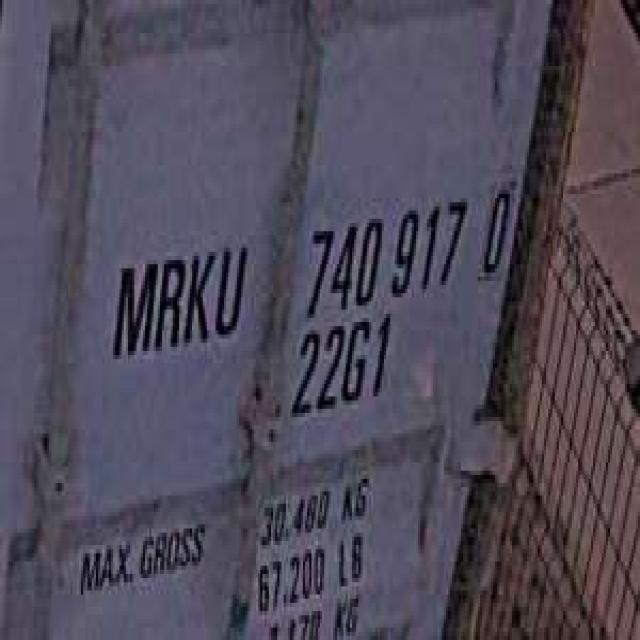dv: (476, 169, 516, 285)
owner: (104, 223, 254, 363)
serial: (301, 177, 469, 314)
size: (292, 310, 397, 425)
